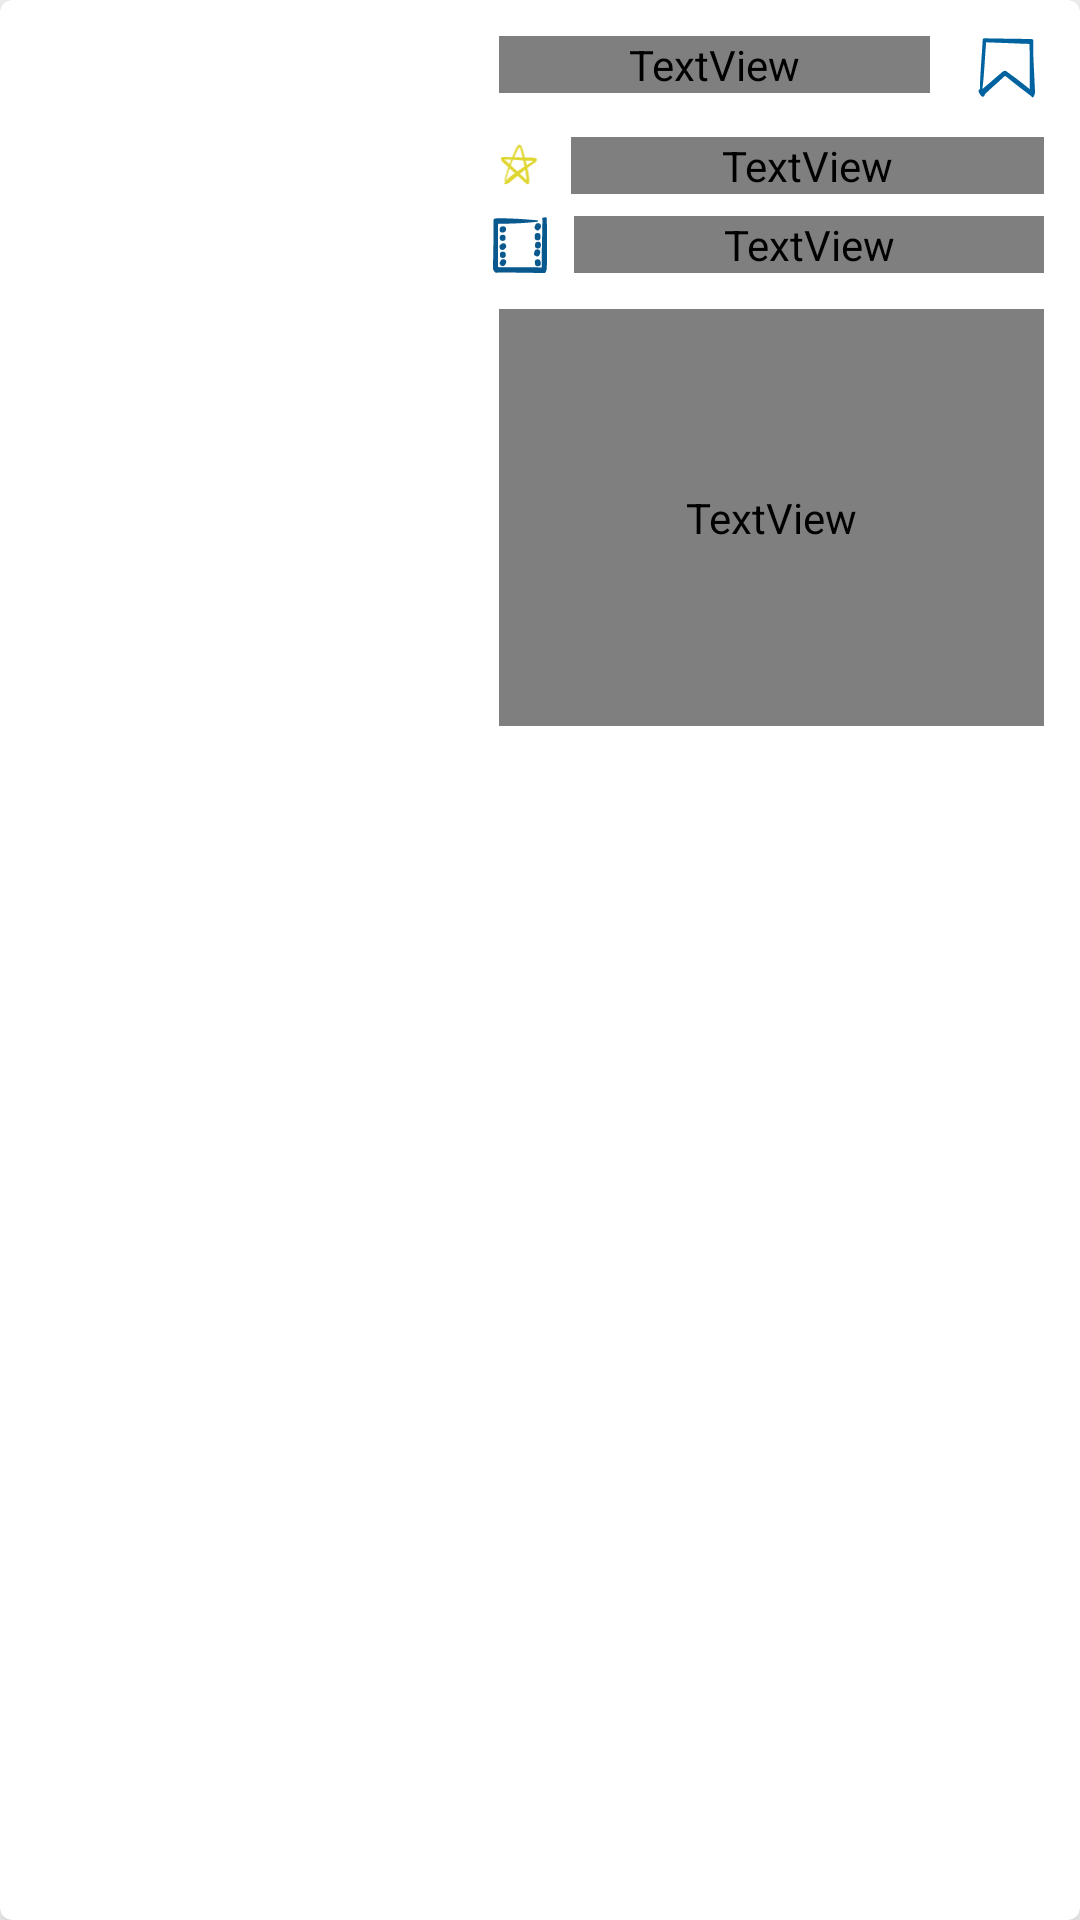

Icons on this 1080 × 1920 Android screen, each with the point to tap as point (x, y):
bookmark: point (1006, 68)
